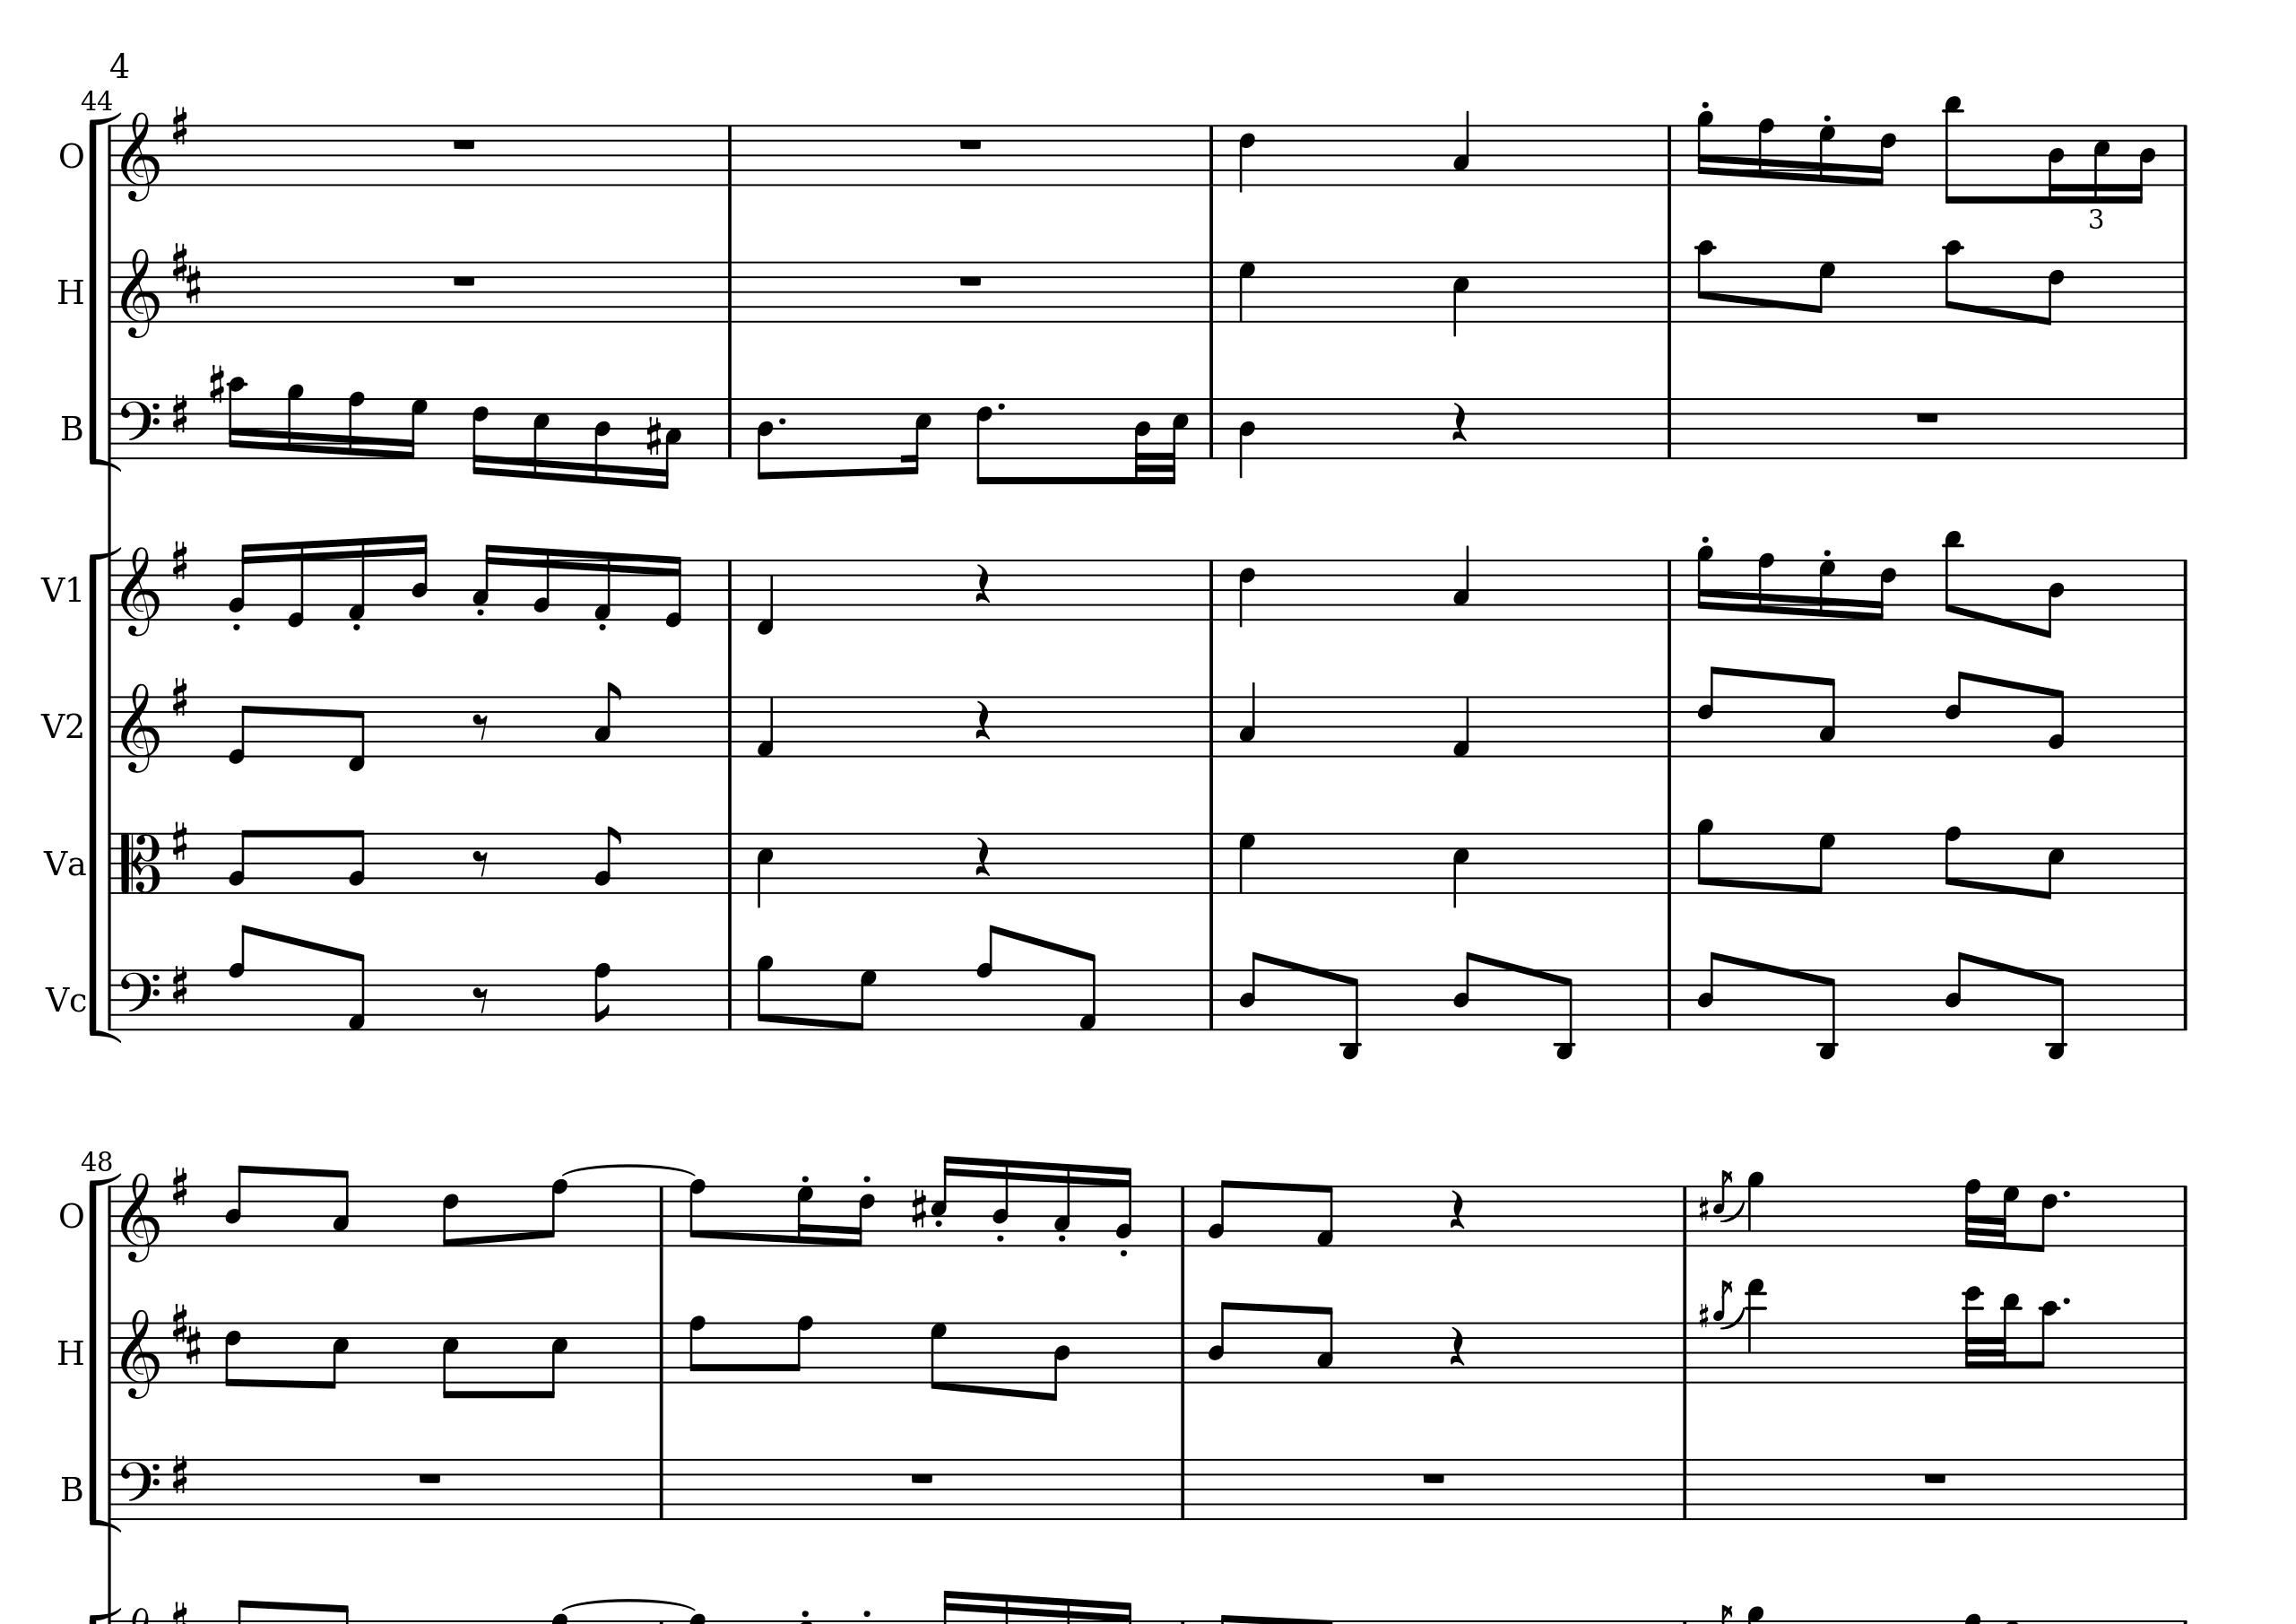16_0: (285, 540, 306, 627), (662, 554, 683, 629)
16_1: (346, 536, 367, 622), (592, 550, 613, 622)
16_10: (227, 374, 246, 460)
16_2: (227, 541, 253, 620), (1114, 1165, 1135, 1248), (531, 545, 552, 622)
16_3: (659, 397, 683, 490), (471, 541, 497, 622), (1052, 1160, 1072, 1248)
16_4: (592, 395, 613, 487), (409, 533, 430, 622), (991, 1158, 1012, 1248), (2133, 123, 2155, 204), (2047, 121, 2066, 204)
16_5: (901, 397, 933, 476), (929, 1153, 956, 1248), (531, 394, 552, 482), (2092, 121, 2112, 202)
16_6: (1871, 557, 1897, 622), (850, 1183, 877, 1248), (1873, 123, 1897, 188), (471, 395, 490, 476)
16_7: (402, 397, 429, 460), (1816, 121, 1838, 188), (1816, 557, 1838, 624), (796, 1181, 815, 1248)
16_8: (1757, 550, 1776, 622), (1757, 116, 1774, 188), (348, 388, 365, 460)
16_9: (1695, 543, 1715, 622), (1695, 109, 1713, 188), (286, 381, 304, 459)
3: (2089, 207, 2105, 230)
32_11: (1996, 1292, 2022, 1385)
32_12: (1962, 1285, 1985, 1385)
32_4: (1133, 397, 1152, 487)
32_5: (1165, 399, 1191, 487)
32_7: (1996, 1183, 2020, 1250)
32_8: (1964, 1176, 1982, 1250)
4: (109, 49, 130, 77), (79, 1148, 97, 1172), (81, 86, 97, 112), (98, 86, 112, 111)
4_-1: (755, 557, 775, 634)
4_1: (1451, 694, 1472, 759), (755, 694, 775, 759)
4_13: (1744, 1278, 1767, 1383)
4_3: (1237, 678, 1260, 759), (1451, 543, 1474, 622), (1451, 109, 1472, 188)
4_4: (1237, 395, 1258, 478)
4_5: (1451, 258, 1470, 339), (755, 830, 775, 909), (1451, 830, 1470, 909)
4_6: (1237, 121, 1258, 193), (1237, 557, 1258, 627)
4_7: (1237, 258, 1258, 323), (1237, 830, 1258, 895)
4_9: (1744, 1169, 1765, 1248)
8: (97, 1148, 112, 1171)
8_-1: (346, 694, 367, 772)
8_-3: (1339, 968, 1361, 1058), (1553, 968, 1576, 1058), (1816, 968, 1839, 1058), (2045, 968, 2068, 1058)
8_0: (227, 694, 253, 765)
8_1: (344, 949, 367, 1032), (1077, 949, 1098, 1032), (1314, 1183, 1335, 1248)
8_10: (2032, 1299, 2061, 1385), (1941, 237, 1966, 323), (1695, 239, 1716, 323)
8_11: (1941, 93, 1966, 206), (1941, 529, 1966, 622)
8_2: (594, 824, 622, 895), (1207, 1178, 1233, 1248), (228, 828, 253, 895), (2047, 685, 2066, 759), (348, 828, 367, 895)
8_3: (592, 678, 622, 759), (1816, 675, 1838, 759), (330, 1167, 351, 1248), (1316, 1304, 1335, 1385)
8_4: (223, 1162, 251, 1248), (1205, 1299, 1233, 1383), (1237, 949, 1265, 1032), (1451, 949, 1479, 1032), (1695, 949, 1723, 1032), (1943, 949, 1971, 1032), (1043, 1322, 1072, 1403), (2040, 557, 2064, 640), (754, 397, 775, 482)
8_5: (543, 1320, 569, 1399), (2040, 830, 2066, 902), (323, 1320, 350, 1390), (441, 1320, 460, 1401)
8_6: (1695, 664, 1723, 759), (1943, 668, 1971, 759), (975, 394, 994, 489), (2040, 258, 2066, 327), (2034, 1183, 2059, 1253), (223, 1320, 242, 1388), (441, 1183, 460, 1248)
8_7: (1809, 830, 1838, 895), (1809, 258, 1836, 323), (850, 968, 877, 1032), (928, 1320, 949, 1390)
8_8: (227, 923, 255, 1032), (975, 923, 1003, 1032), (541, 1176, 569, 1248), (787, 1313, 813, 1383), (592, 960, 613, 1032), (687, 1176, 708, 1248), (1943, 824, 1964, 895), (687, 1313, 708, 1383)
8_9: (755, 953, 775, 1032), (1695, 817, 1715, 895)
Acciaccature: (1713, 1278, 1737, 1371), (1715, 1165, 1737, 1244)
Bracke: (90, 548, 119, 1056), (88, 1172, 123, 1533), (86, 111, 119, 475)
Cclef: (118, 830, 162, 893)
D_S: (169, 239, 202, 302), (169, 1301, 202, 1364)
Fclef: (118, 967, 162, 1030), (119, 395, 162, 460), (118, 1457, 162, 1515)
Gclef: (119, 680, 160, 775), (119, 1306, 160, 1401), (119, 545, 160, 638), (119, 1169, 160, 1262), (119, 109, 158, 202), (119, 246, 158, 337)
Rests1: (1419, 1469, 1449, 1487), (1913, 408, 1941, 425), (450, 135, 480, 151), (956, 135, 986, 151), (450, 272, 480, 288), (956, 272, 986, 288), (415, 1469, 444, 1485), (906, 1469, 936, 1485), (1920, 1469, 1948, 1485)
Rests4: (1446, 1323, 1467, 1369), (971, 835, 993, 879), (1449, 401, 1469, 445), (973, 561, 993, 605), (973, 698, 993, 742), (1448, 1188, 1467, 1230)
Rests8: (469, 984, 492, 1014), (471, 847, 490, 879), (471, 712, 490, 740)
Sharp: (169, 540, 191, 584), (169, 675, 191, 719), (167, 817, 190, 861), (169, 104, 190, 148), (169, 961, 190, 1005), (169, 1164, 190, 1207), (169, 1452, 190, 1494), (170, 390, 190, 436), (908, 1186, 928, 1229), (207, 362, 225, 406), (645, 413, 662, 457), (1697, 1299, 1711, 1332), (1697, 1193, 1709, 1222)
Single_barline: (1202, 123, 1221, 185), (1202, 260, 1221, 322), (722, 559, 741, 620), (1202, 559, 1221, 620), (1660, 559, 1679, 620), (722, 694, 741, 756), (720, 125, 740, 185), (720, 262, 740, 322), (1202, 397, 1221, 457), (1202, 696, 1221, 756), (1660, 696, 1679, 756), (1202, 831, 1221, 891), (720, 831, 740, 891), (1202, 968, 1221, 1028), (1660, 968, 1679, 1028), (1173, 1322, 1193, 1381), (1674, 1322, 1693, 1381), (1173, 1459, 1193, 1519), (1674, 1459, 1693, 1519), (652, 1459, 671, 1517), (1660, 260, 1678, 322), (1662, 831, 1679, 893), (2175, 831, 2192, 893), (2175, 968, 2192, 1030), (1676, 1185, 1693, 1246), (1660, 125, 1678, 185), (1660, 399, 1678, 459), (722, 968, 740, 1028), (653, 1186, 671, 1246), (653, 1322, 671, 1381), (2175, 1459, 2192, 1519), (104, 559, 119, 620), (2177, 559, 2192, 620), (1175, 1185, 1191, 1246), (2177, 1322, 2192, 1383), (104, 125, 119, 185), (2177, 125, 2192, 185), (2177, 262, 2192, 322), (2177, 399, 2192, 459), (2177, 696, 2192, 756), (102, 831, 118, 891), (104, 1186, 119, 1246), (722, 399, 738, 457), (2177, 1186, 2192, 1244), (104, 260, 118, 320), (104, 696, 118, 756), (104, 968, 118, 1028), (104, 1322, 118, 1381), (104, 399, 118, 457), (104, 1459, 118, 1517)
Slur: (557, 1596, 697, 1613), (559, 1162, 697, 1176), (1716, 1308, 1744, 1334), (1716, 1200, 1746, 1223)
dot: (994, 399, 1008, 413), (775, 415, 789, 427), (2061, 1186, 2073, 1200), (2061, 1294, 2071, 1308)
